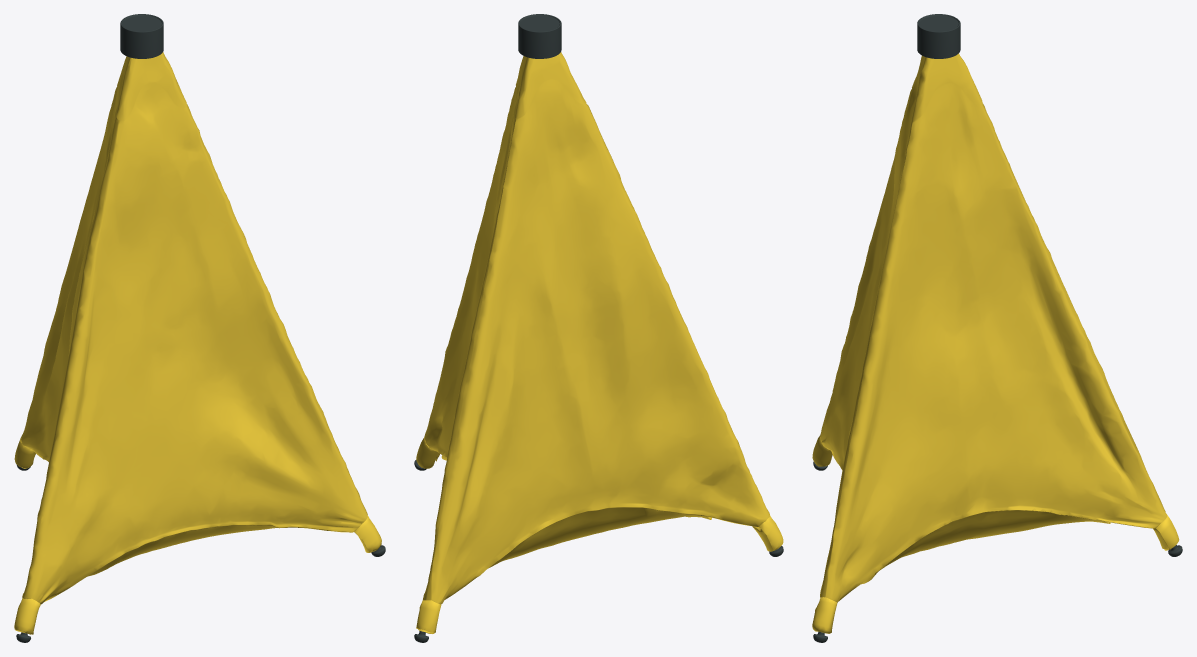
File: sign_wetFloor_b02.glb
The picture shows the model from 3 angles, left to right: view 1: azimuth 30°, elevation 25°; view 2: azimuth 150°, elevation 25°; view 3: azimuth 270°, elevation 25°; orthographic projection.
Size of the model in its own units: 0.5435 by 0.753 by 0.4739.
